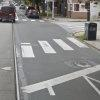Crosswalk: (14, 34, 95, 77)
